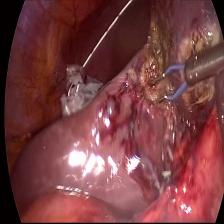Bipolar: (147, 50, 198, 110)
Specimen Bag: (55, 57, 106, 120)
